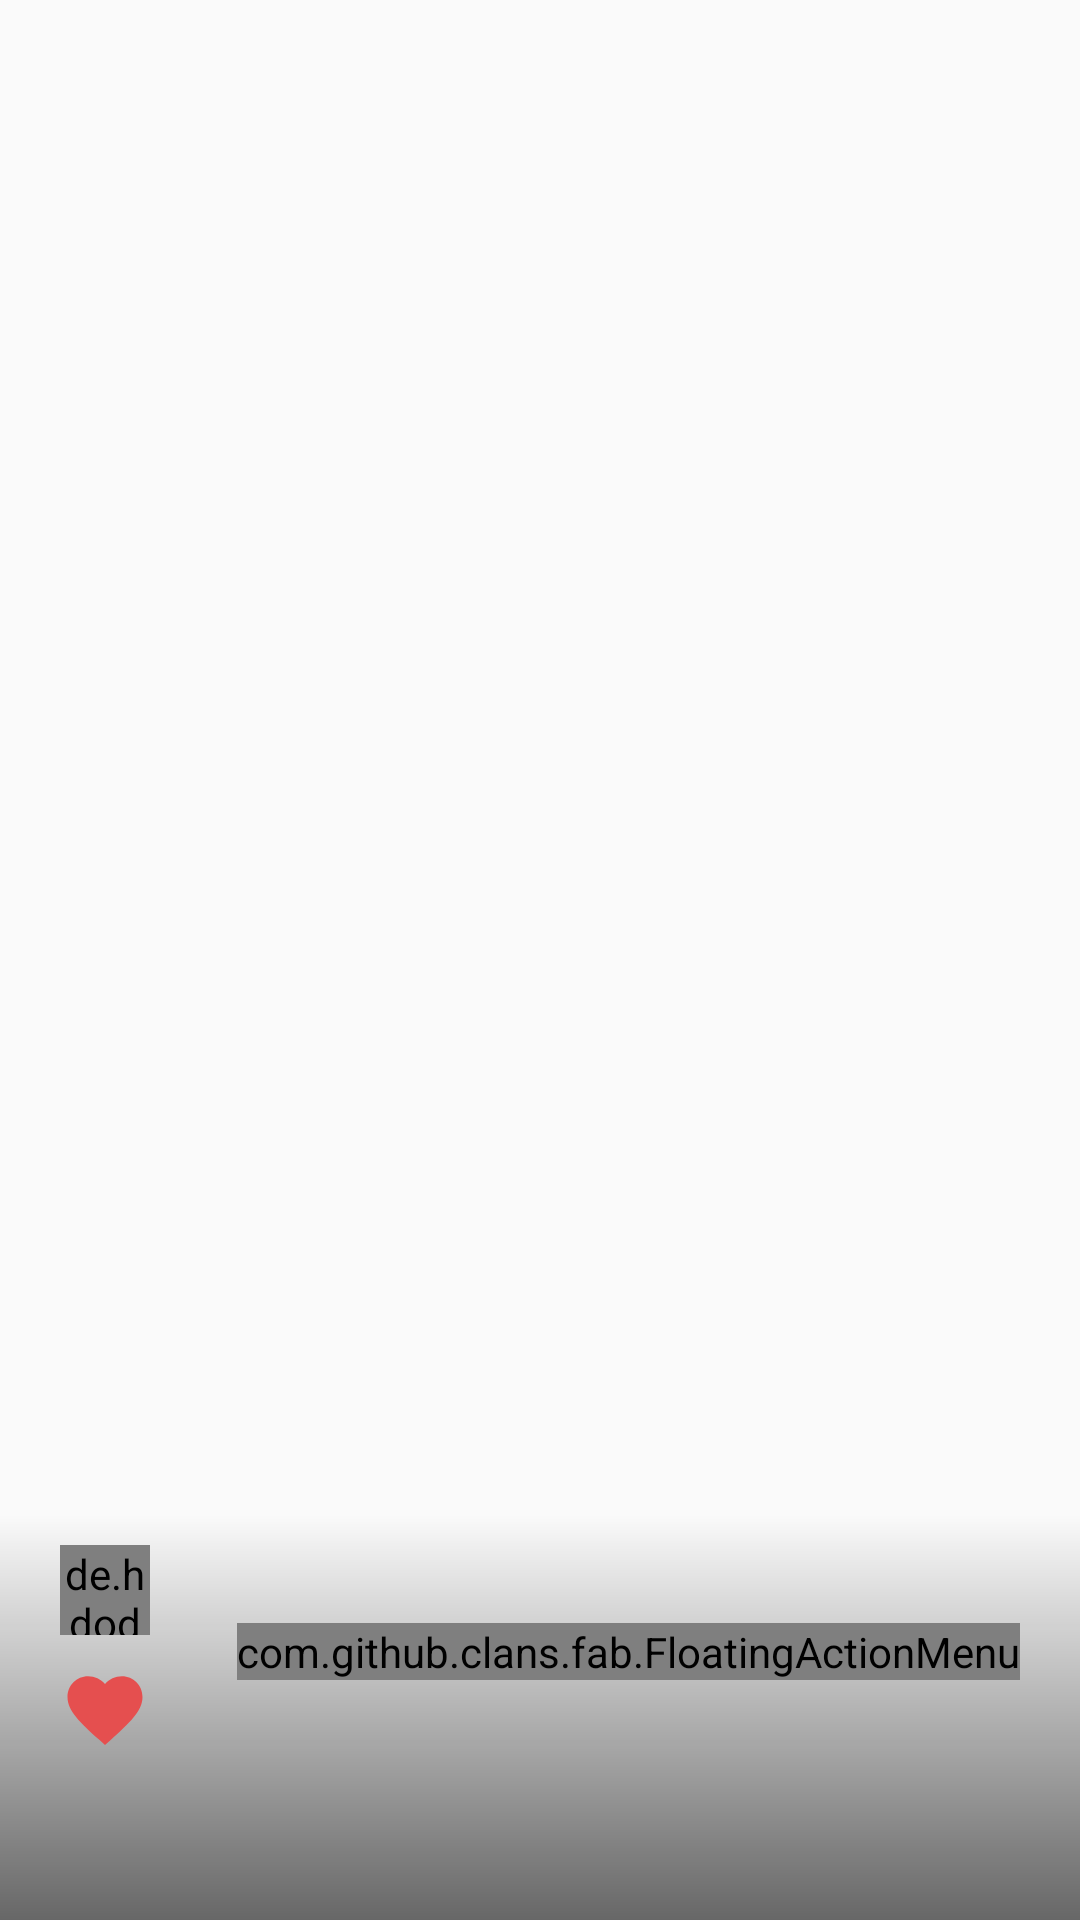

Named icons in this screenshot (1080×1920) and their bounding boxes, (x1, y1, x2, y2):
likes: (60, 1665, 150, 1745)
